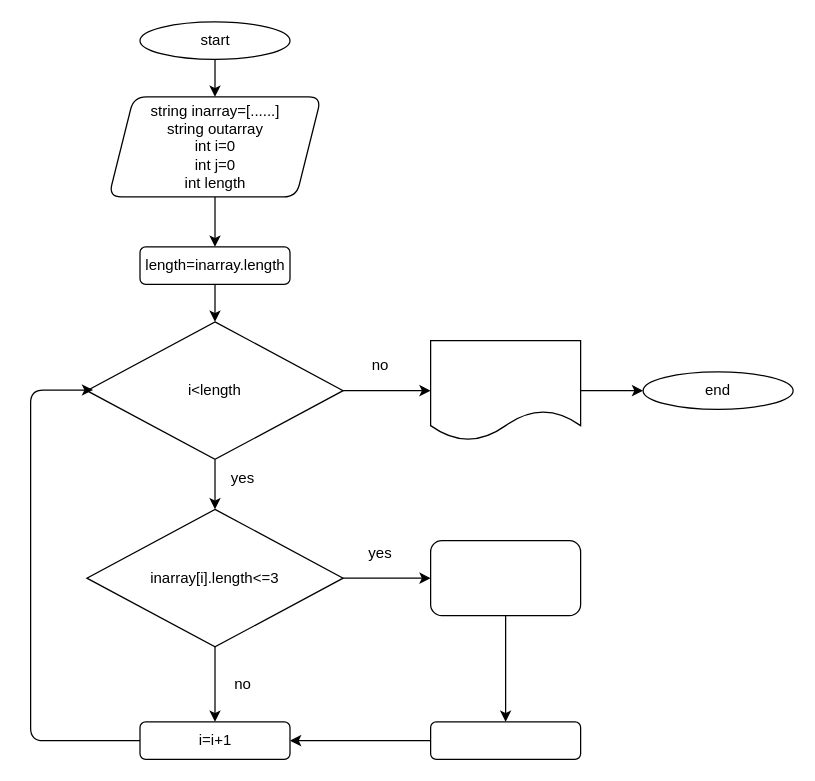
The diagram is 815 pixels wide and 781 high, and some of its shapes have lost their labels. Here are the shapes that lost their labels. From the top down, the box of each, then its label:
(429, 339, 581, 441): return outarray
(429, 539, 581, 616): outarray[j]=inarray[i]
(429, 721, 581, 759): j=j+1
